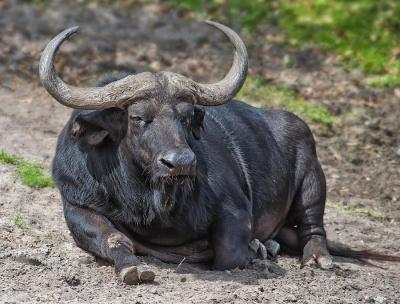buffalo: (40, 22, 330, 283)
